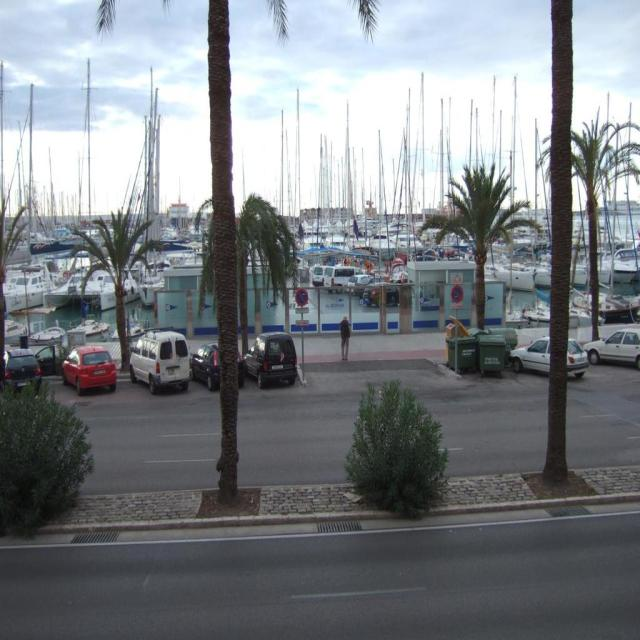car: (123, 322, 188, 388)
